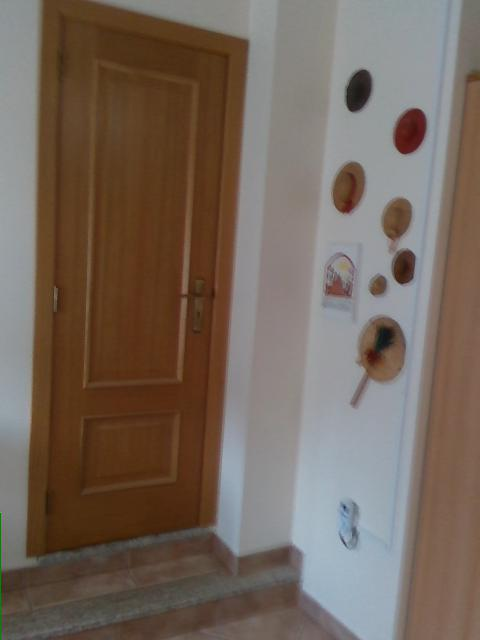door: (53, 14, 228, 547)
